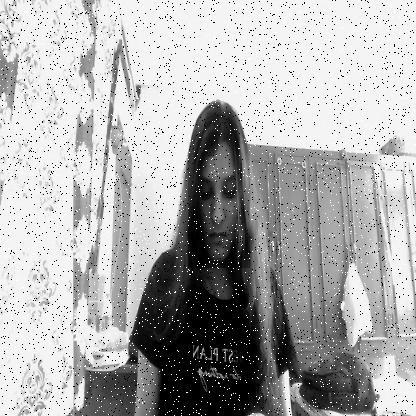Normal: (188, 102, 250, 268)
